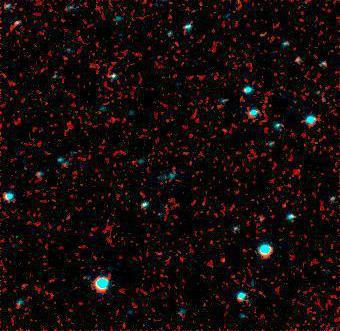star: (269, 192, 299, 222)
